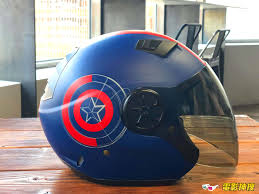helmet: (35, 41, 246, 184)
